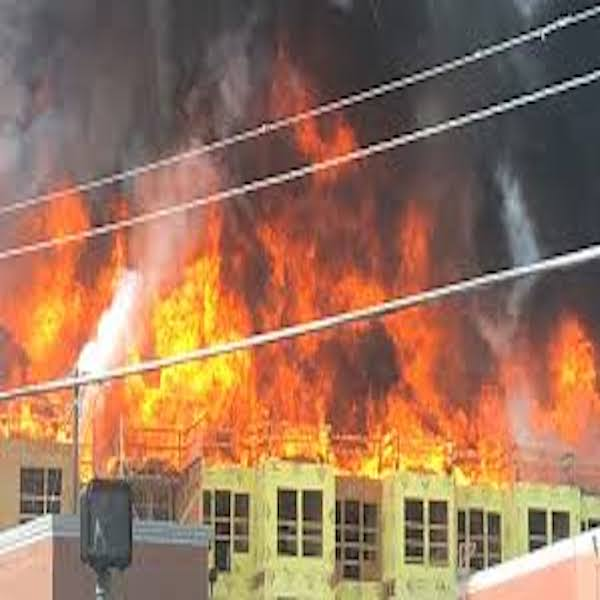fire: (16, 256, 599, 475)
